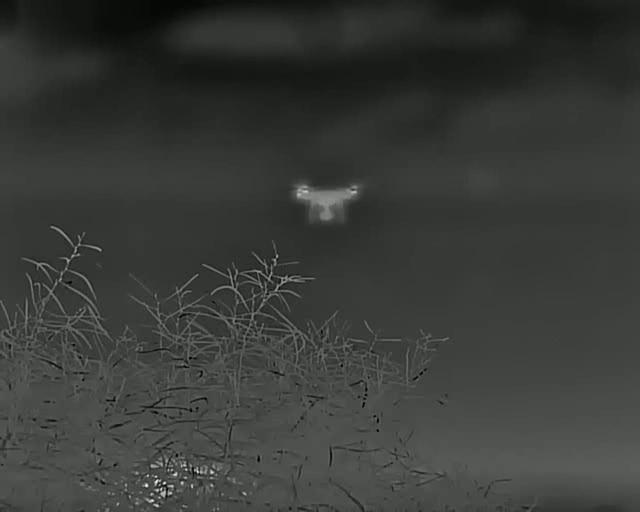DJI-Phantom: (290, 182, 365, 226)
